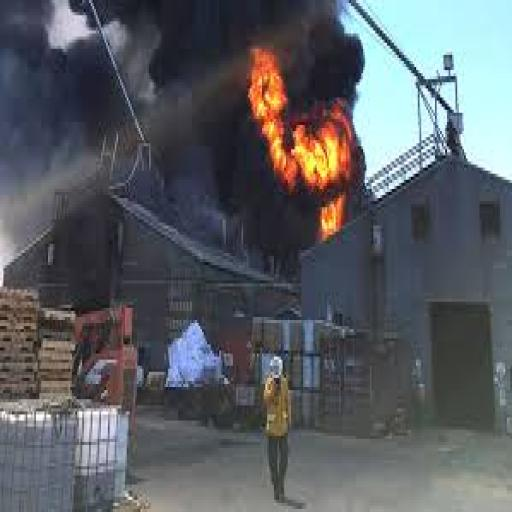fire: (248, 49, 348, 244)
smoke: (122, 3, 243, 174)
